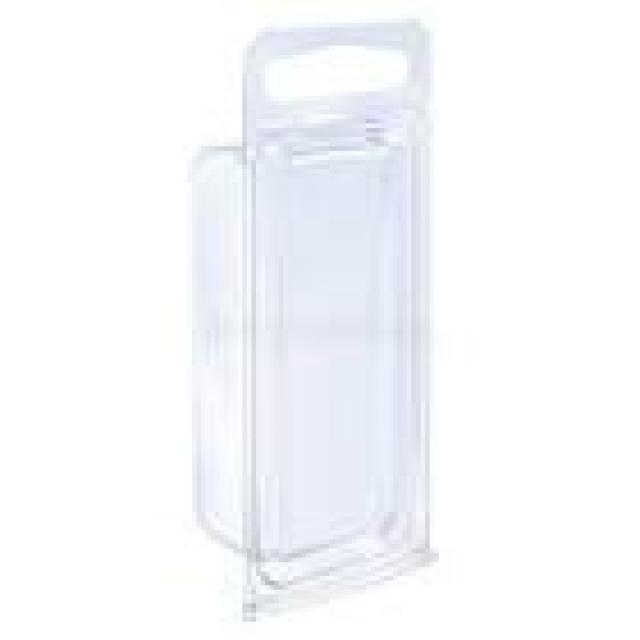Clamshell: (164, 10, 461, 632)
